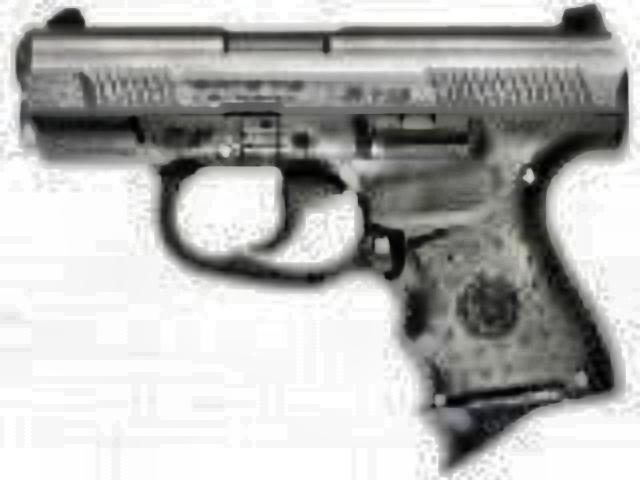pistol: (16, 0, 628, 456)
